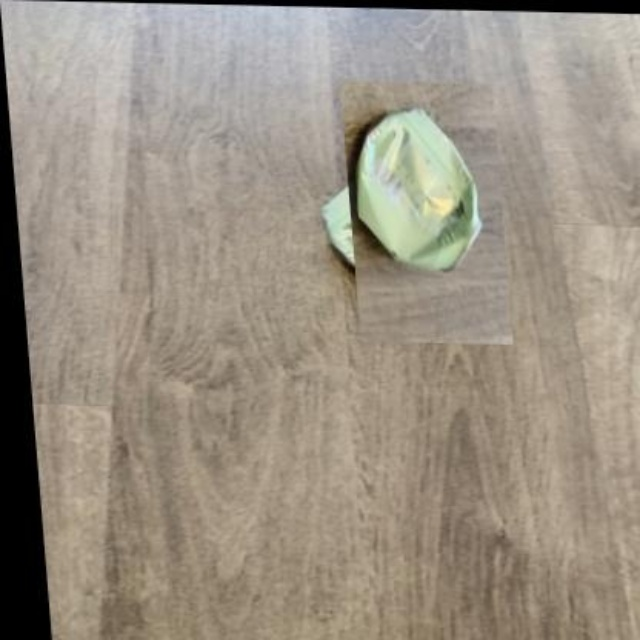trash: (357, 109, 480, 269)
